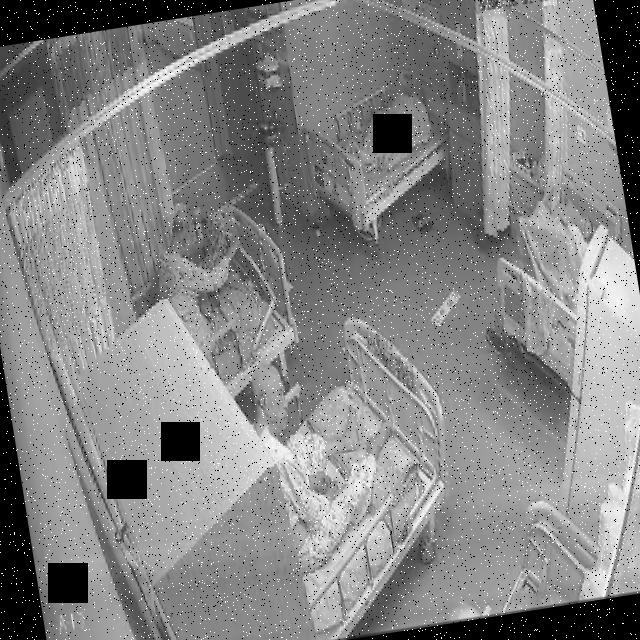bed: (255, 308, 476, 640), (474, 158, 640, 400), (152, 201, 306, 409), (294, 63, 458, 238)
lie: (506, 191, 610, 318)
patient: (247, 348, 415, 600), (150, 199, 287, 353), (560, 210, 602, 266)
sit: (249, 350, 416, 598), (150, 199, 286, 355)
